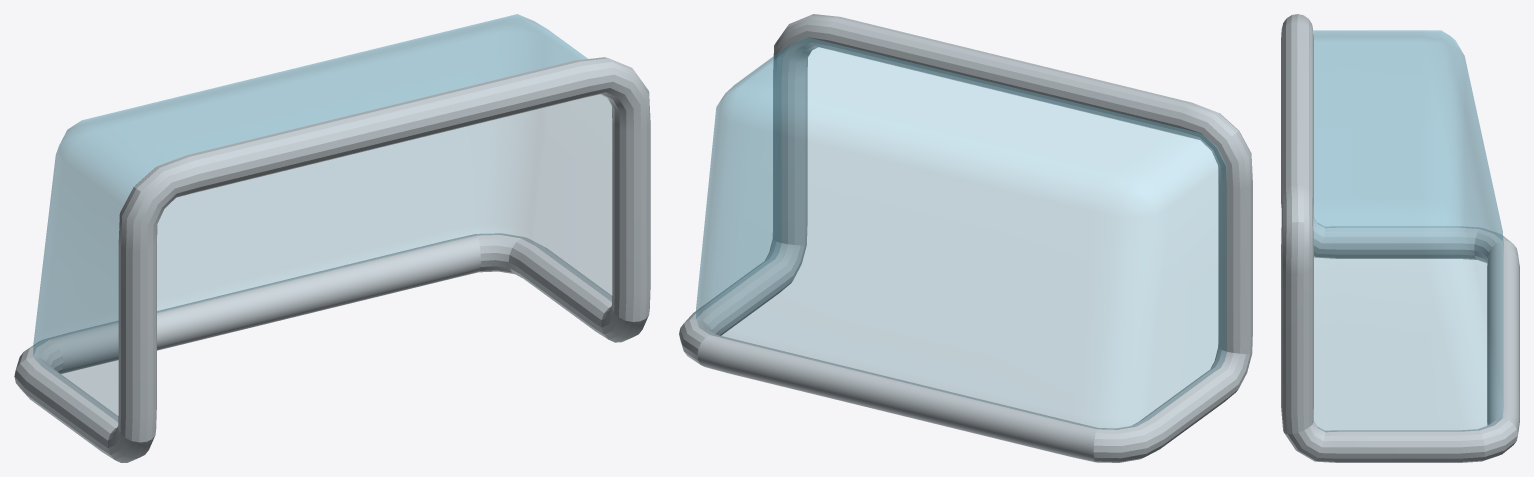
File: Goal.fbx
3 renders of one model, left to right at view 1: azimuth 30°, elevation 25°; view 2: azimuth 150°, elevation 25°; view 3: azimuth 270°, elevation 25°, orthographic. The views are drawn at different scales.
Visible parts, largest first — view 1: Net, GoalBorder; view 2: Net, GoalBorder; view 3: Net, GoalBorder.
Boxes of the visible parts, x1,y1,x2,y2 form: Net: [33, 14, 611, 421]; GoalBorder: [14, 57, 650, 462]; Net: [696, 38, 1226, 429]; GoalBorder: [679, 14, 1252, 462]; Net: [1313, 30, 1503, 431]; GoalBorder: [1281, 14, 1519, 462].
Size of the model in its own units: 213 by 117 by 98.67.
